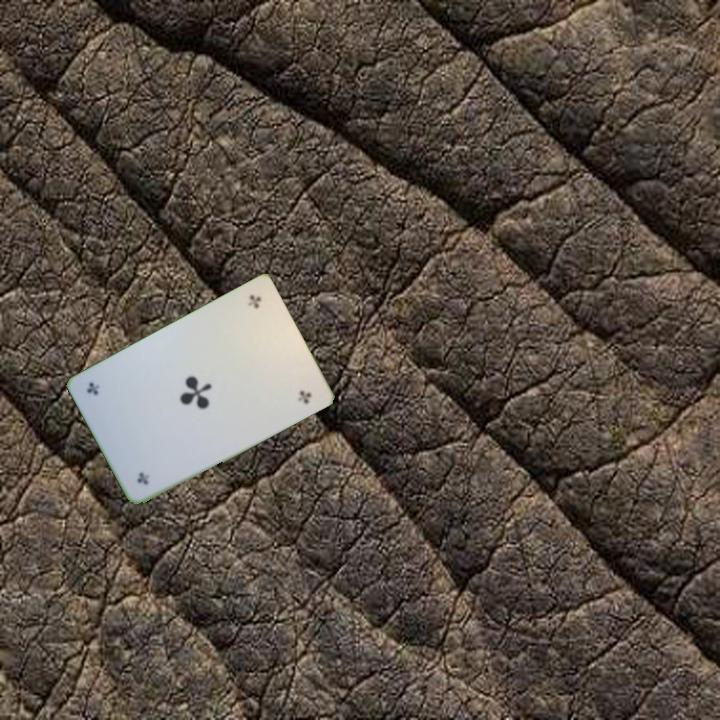c_a.png: (107, 412, 188, 497), (213, 285, 293, 370)
